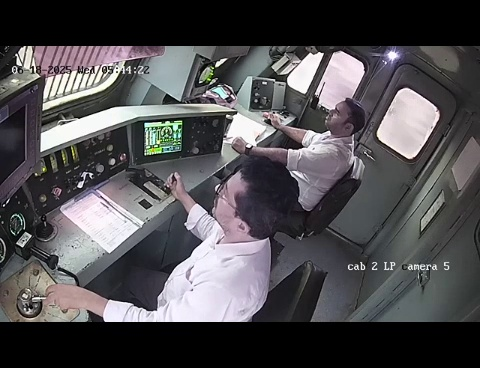brake_applied: (1, 251, 106, 321)
horn_inactive: (26, 210, 64, 248)
